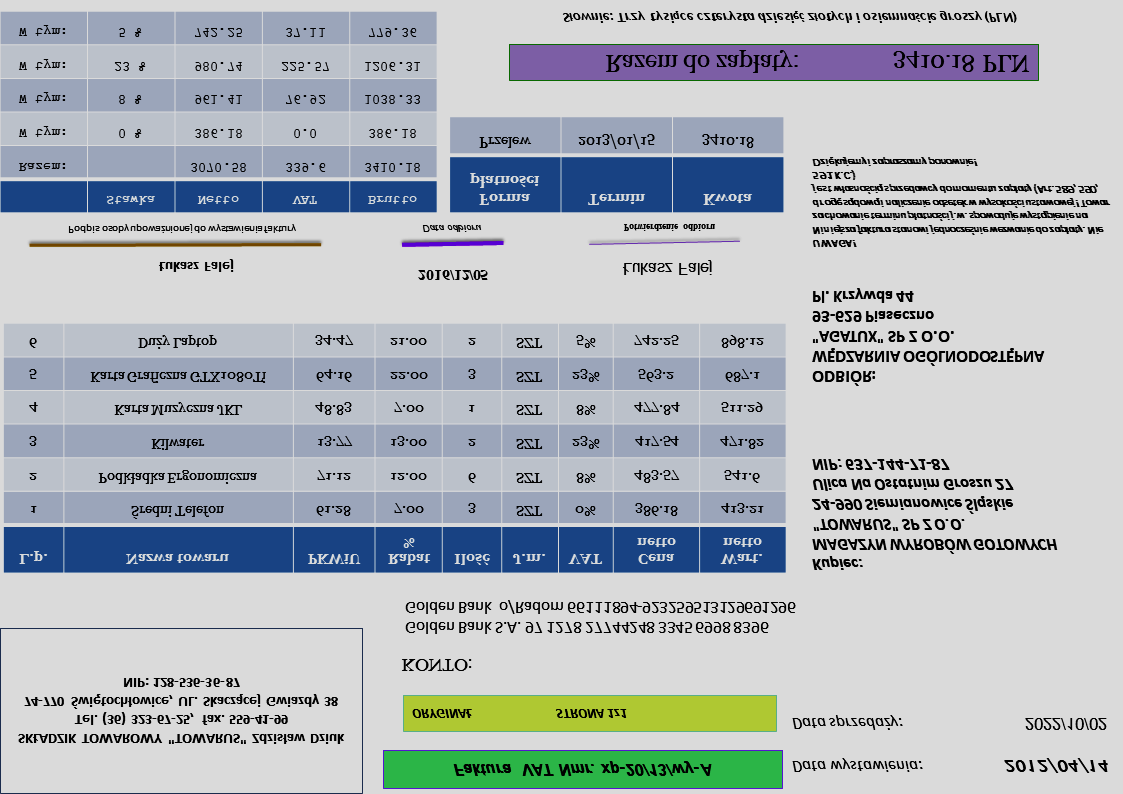Table: (2, 322, 787, 574), (1, 12, 437, 212), (448, 116, 786, 215)
TextBox: (810, 457, 1060, 574), (810, 156, 1112, 250), (16, 674, 348, 748), (811, 287, 1045, 388), (403, 599, 800, 637), (604, 50, 1031, 75), (561, 10, 1021, 26), (449, 758, 714, 781), (65, 221, 298, 237), (409, 706, 629, 722), (791, 757, 925, 777), (791, 713, 906, 733), (1001, 758, 1110, 777), (620, 257, 713, 278), (1023, 715, 1110, 733), (415, 265, 489, 285), (156, 257, 236, 275), (401, 657, 473, 675), (622, 222, 716, 234), (420, 221, 483, 236)
